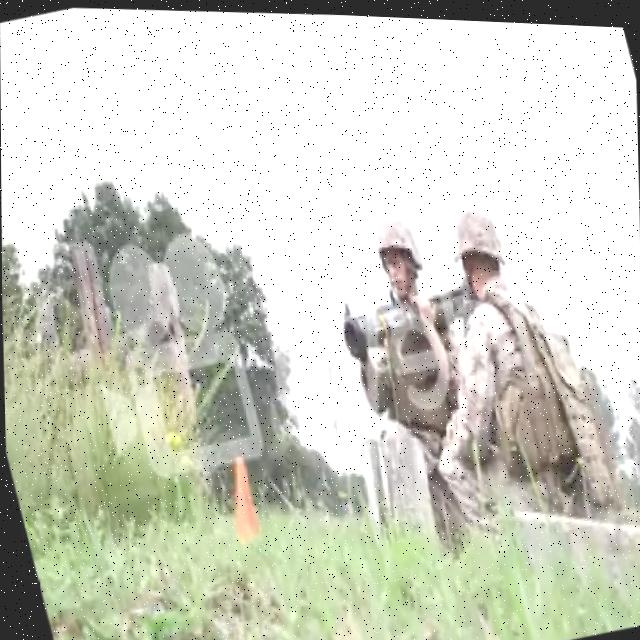rocket: (336, 277, 469, 364)
